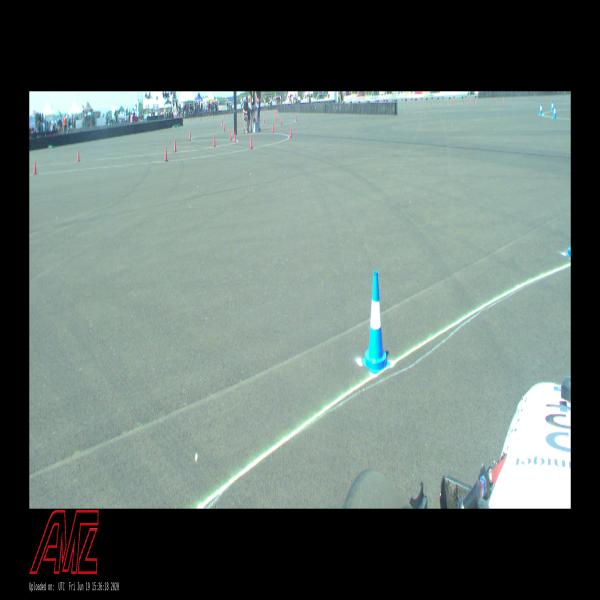blue_cone: (362, 271, 390, 374), (552, 105, 556, 119), (539, 103, 543, 115), (551, 101, 553, 112)
unknown_cone: (33, 160, 38, 175), (250, 135, 254, 149), (164, 147, 168, 161), (77, 149, 80, 162), (213, 135, 216, 147), (174, 140, 177, 152), (229, 130, 232, 140), (290, 126, 292, 137), (234, 131, 236, 142), (189, 131, 191, 141), (272, 123, 274, 133), (280, 117, 282, 125), (221, 119, 223, 126), (233, 126, 234, 134), (224, 125, 225, 132), (264, 117, 265, 124), (296, 114, 297, 121)
